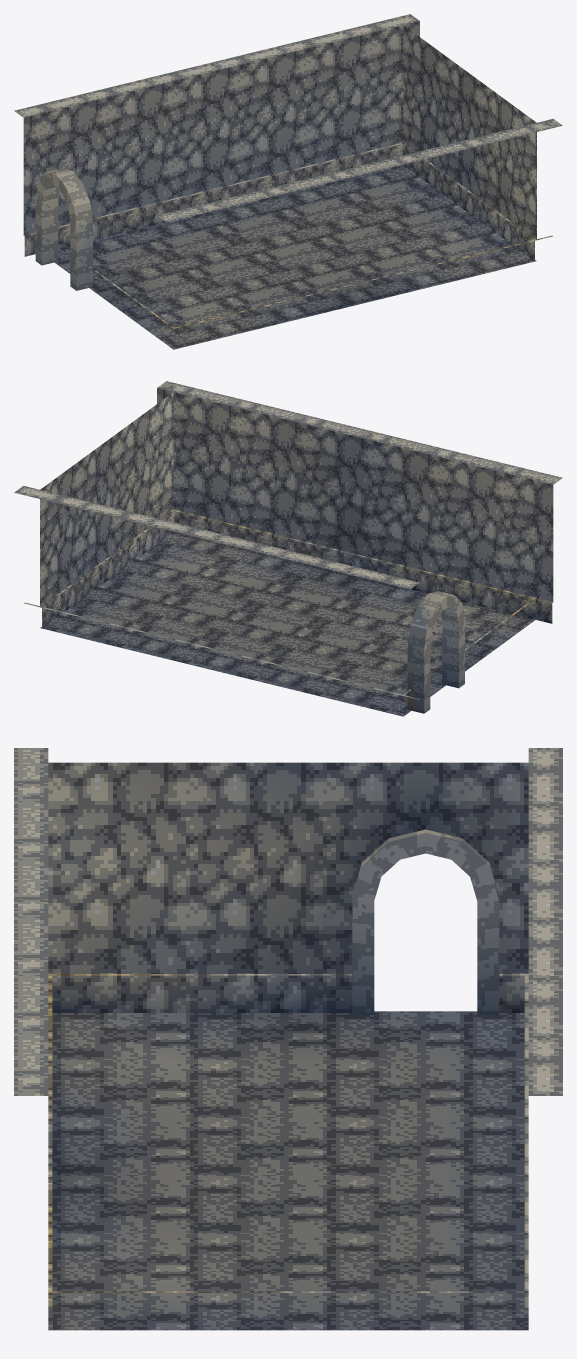
File: cst.hall__dungeon.glb
3 views of the same model, one above another, from view 1: azimuth 30°, elevation 25°; view 2: azimuth 150°, elevation 25°; view 3: azimuth 270°, elevation 25° (orthographic). The views are drawn at different scales.
Parts seen in each view (by area): view 1: kit_shell_walls, kit_shell_floor, kit_fittings; view 2: kit_shell_walls, kit_shell_floor, kit_fittings; view 3: kit_shell_floor, kit_shell_walls, kit_fittings.
Boxes of the visible parts, x1,y1,x2,y2 form: kit_shell_walls: [14, 14, 562, 332]; kit_shell_floor: [54, 165, 536, 349]; kit_fittings: [35, 168, 92, 290]; kit_shell_walls: [14, 381, 562, 699]; kit_shell_floor: [40, 532, 535, 716]; kit_fittings: [407, 591, 464, 713]; kit_shell_floor: [48, 1011, 528, 1330]; kit_shell_walls: [14, 748, 562, 1307]; kit_fittings: [352, 829, 499, 1014].
Size of the model in its own units: 12 by 4 by 8.
Materials: 4 (4 with a texture image).
